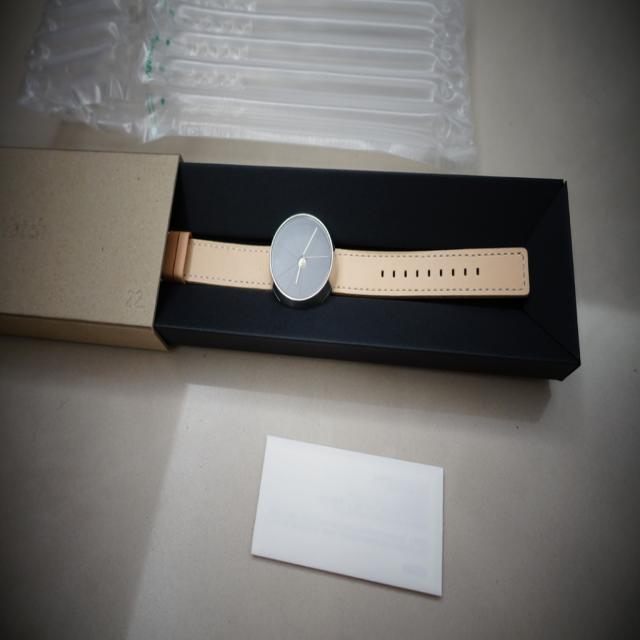Box: (0, 144, 183, 354)
